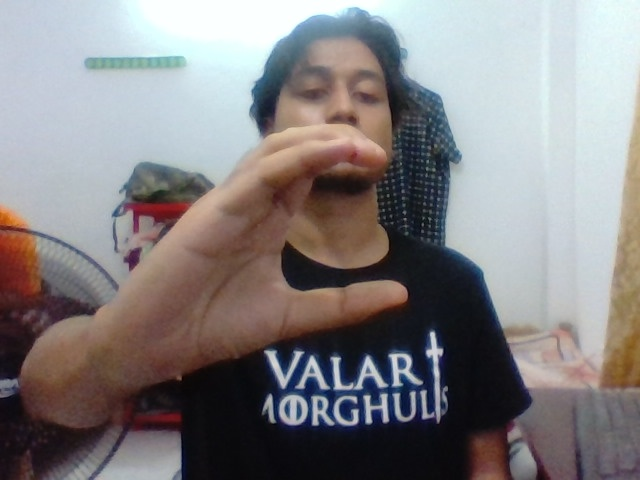C: (159, 116, 422, 353)
